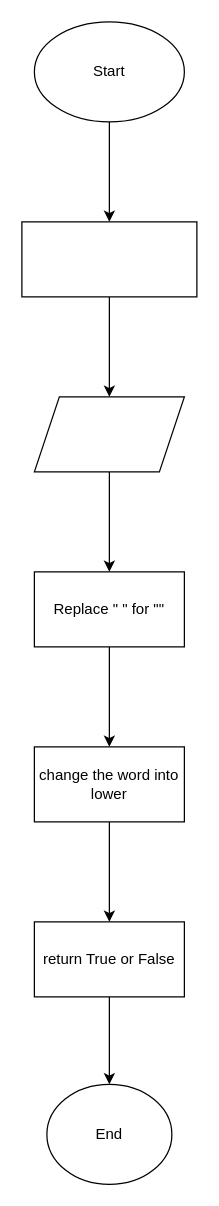
This 219x1206 diagram has some shape labels left out. Each missing label, with the box of its shape:
Request string to user: (21, 221, 197, 297)
string: str1: (33, 396, 184, 472)
